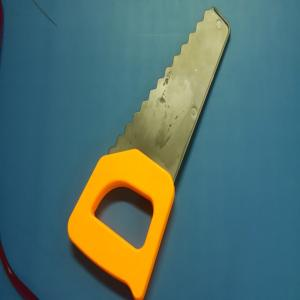serrote: (67, 6, 231, 300)
